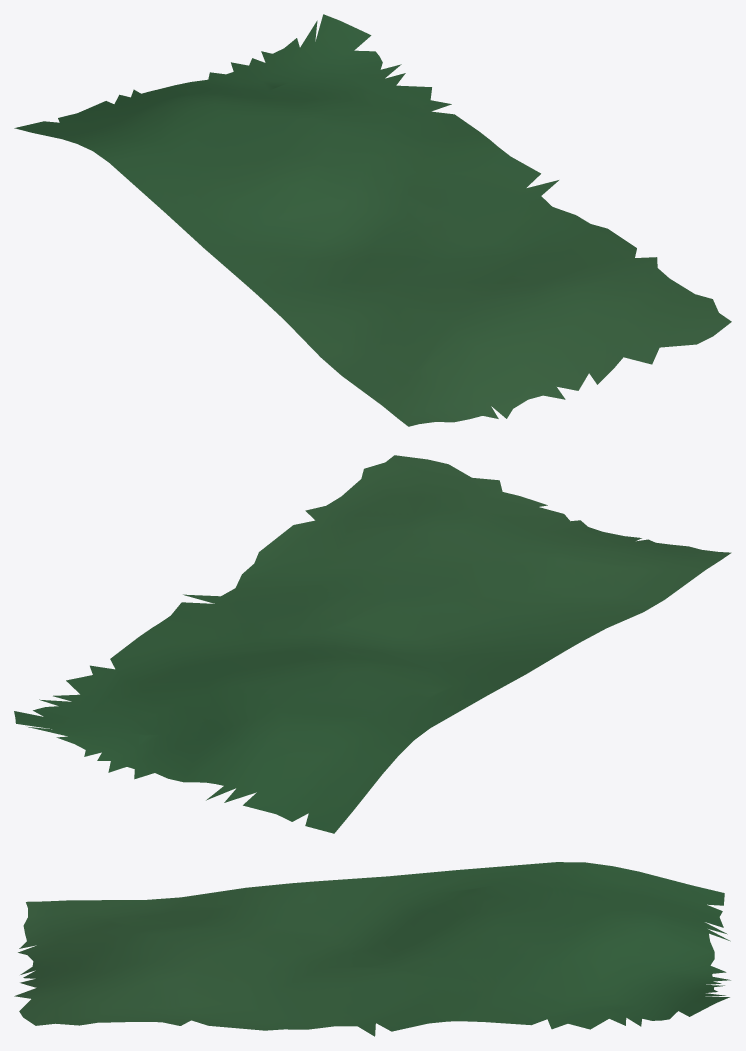
File: payo_land_x4_y7_lod1.glb
The picture shows the model from 3 angles, top to bottom: view 1: azimuth 30°, elevation 25°; view 2: azimuth 150°, elevation 25°; view 3: azimuth 270°, elevation 25°; orthographic projection. The views are drawn at different scales.
Parts seen in each view (by area): view 1: payo_land_x4_y7; view 2: payo_land_x4_y7; view 3: payo_land_x4_y7.
Part boxes in pixels (box(x1,y1,x2,y2)): payo_land_x4_y7: box(14, 14, 731, 426); payo_land_x4_y7: box(14, 455, 731, 833); payo_land_x4_y7: box(14, 862, 730, 1036).
Bounding box in the file's own units: 132 × 21.18 × 266.
